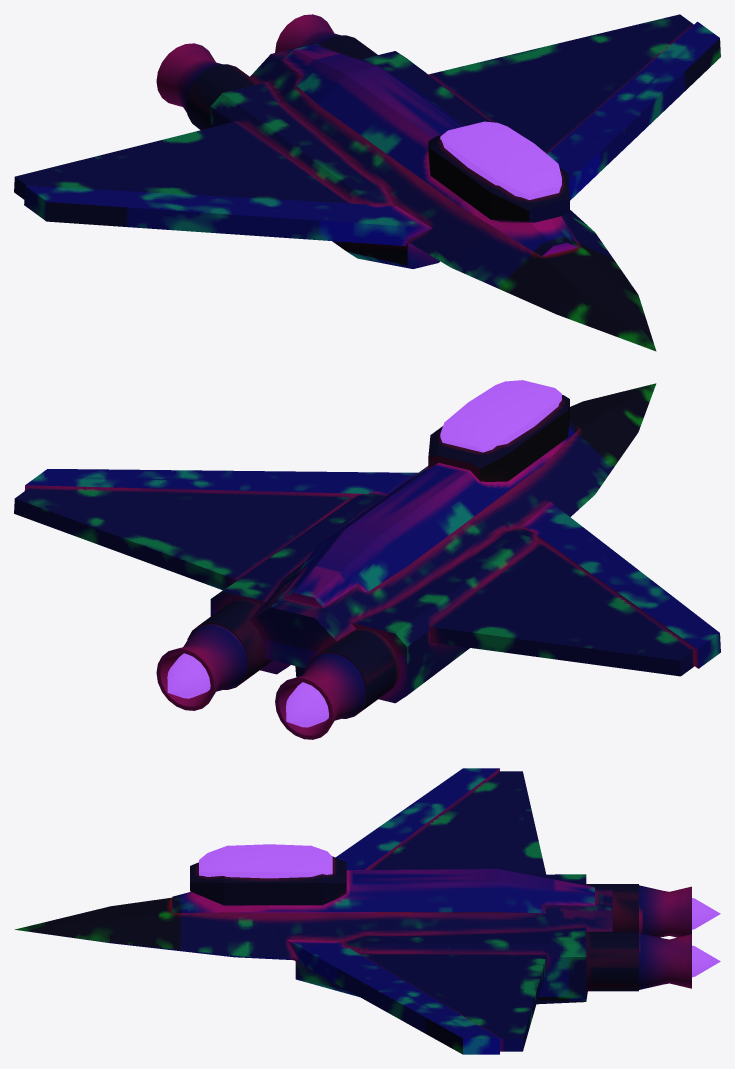
Rendered from drone.glb.
The picture shows the model from 3 angles, top to bottom: view 1: azimuth 30°, elevation 25°; view 2: azimuth 150°, elevation 25°; view 3: azimuth 270°, elevation 25°; orthographic projection. The views are drawn at different scales.
Parts seen in each view (by area): view 1: drone; view 2: drone; view 3: drone.
Part boxes in pixels (x1,y1,x2,y2): drone: [14, 14, 720, 351]; drone: [14, 380, 720, 739]; drone: [15, 768, 720, 1054].
Bounding box in the file's own units: 3.64 × 0.9469 × 4.01.
7 materials, 5 textured.
